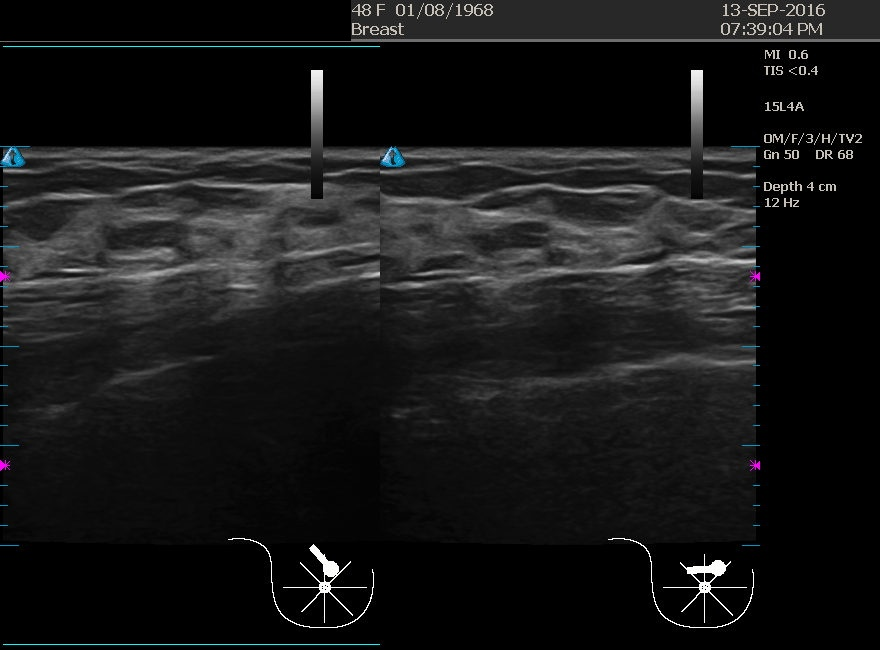BIRADS_2: (26, 204, 226, 404), (416, 154, 616, 354)
